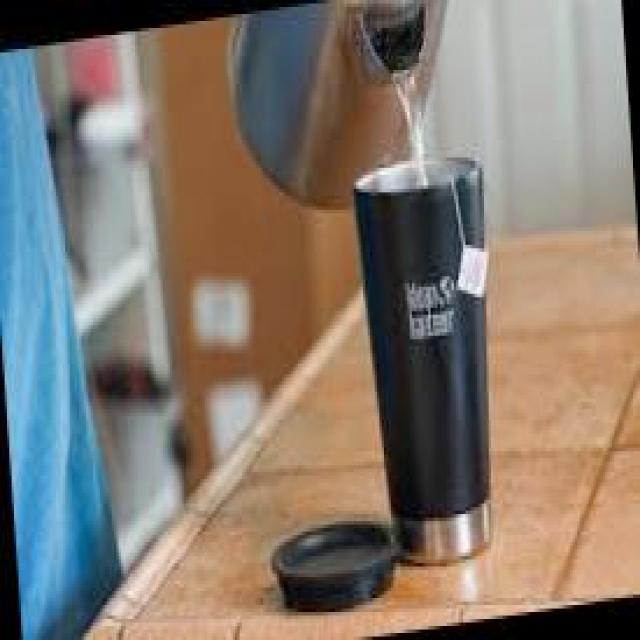bottle: (350, 150, 509, 566)
